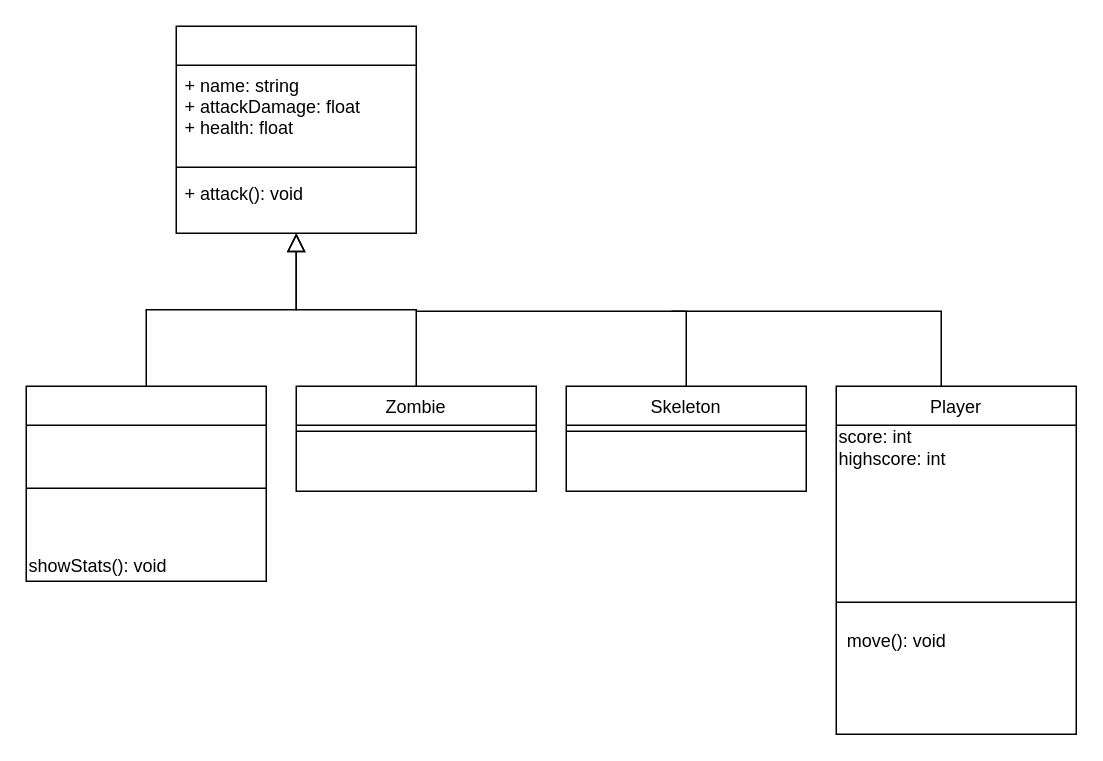
Image size: 1103x761. Some labels were removed from this diagram. The shapes that lost their labels are listed below. From the top down, each one's box as (x1, y1, x2, y2) in pixels, then its label:
(175, 25, 416, 233): Character
(25, 385, 266, 581): Wolf
